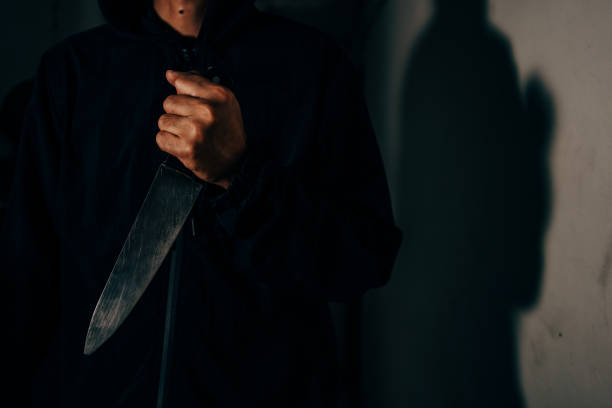knife: (83, 155, 206, 362)
